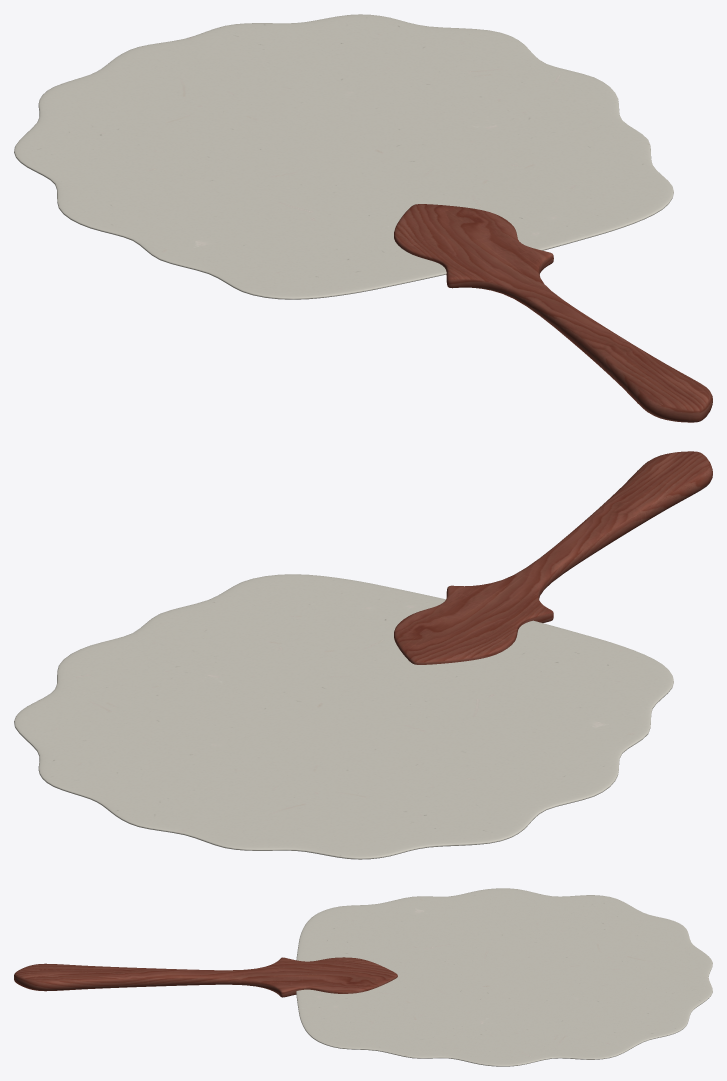
File: tuanshan.fbx
3 views of the same model, one above another, from view 1: azimuth 30°, elevation 25°; view 2: azimuth 150°, elevation 25°; view 3: azimuth 270°, elevation 25° (orthographic). The views are drawn at different scales.
Visible parts, largest first — view 1: juhf3_fan, juhf3_handle; view 2: juhf3_fan, juhf3_handle; view 3: juhf3_fan, juhf3_handle.
Part boxes in pixels (<box>): juhf3_fan: <box>14,14,673,299</box>; juhf3_handle: <box>394,204,712,422</box>; juhf3_fan: <box>14,574,673,859</box>; juhf3_handle: <box>394,451,712,664</box>; juhf3_fan: <box>296,888,712,1066</box>; juhf3_handle: <box>14,957,397,997</box>.
Bounding box in the file's own units: 20.37 × 0.6738 × 33.89.
